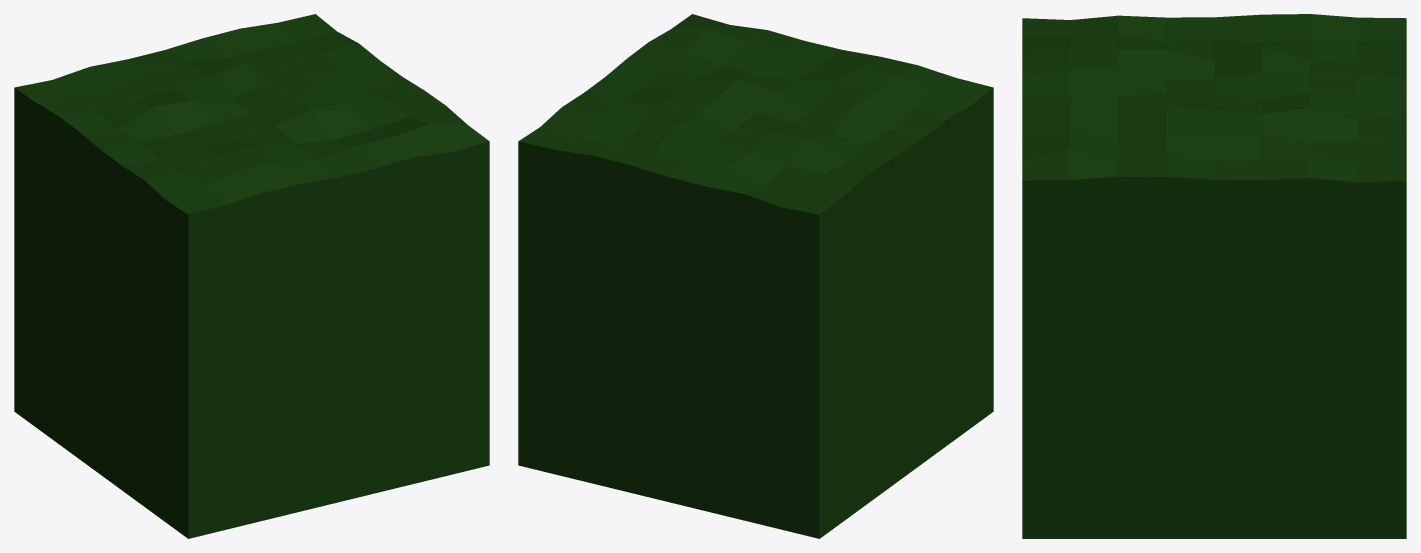
The model's file is Tile.fbx.
3 renders of one model, left to right at view 1: azimuth 30°, elevation 25°; view 2: azimuth 150°, elevation 25°; view 3: azimuth 270°, elevation 25°, orthographic. The views are drawn at different scales.
Parts seen in each view (by area): view 1: Cube.018; view 2: Cube.018; view 3: Cube.018.
Part boxes in pixels (bbox=[...]): Cube.018: bbox=[14, 14, 489, 538]; Cube.018: bbox=[518, 14, 993, 538]; Cube.018: bbox=[1022, 14, 1406, 538].
Size of the model in its own units: 100 by 106 by 100.
